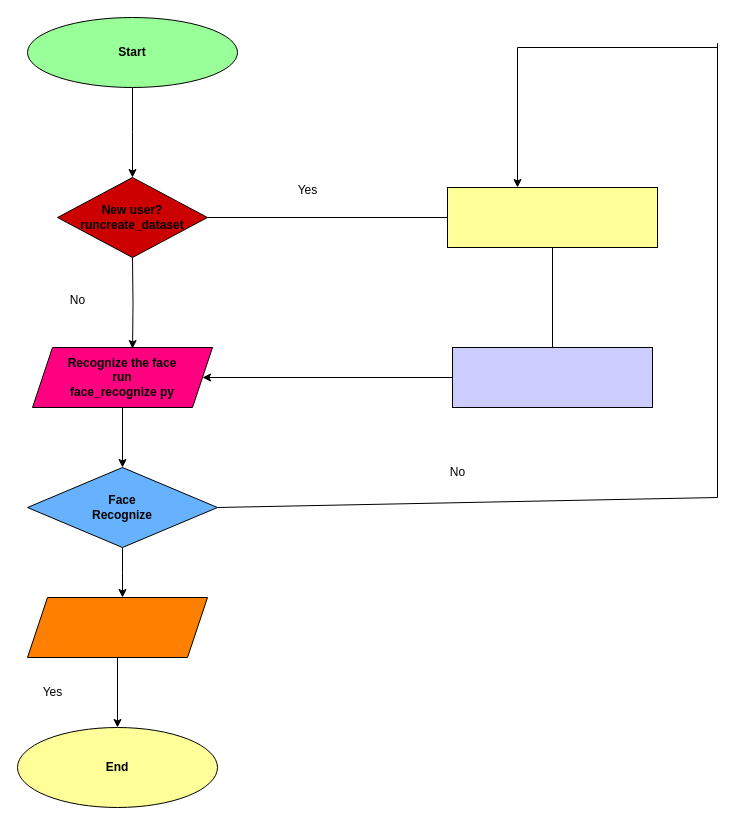
Some shapes in this 736 by 825 pixel diagram are drawn without their labels. The shapes that lost their labels are listed below. From the top down, each one's box as (x1, y1, x2, y2) in pixels, then its label:
(446, 186, 658, 248): Give your photograph
(452, 346, 652, 408): stores the face data in folder on your name
(26, 596, 208, 658): stored in csv file with registration Number & Date Time of Entry
